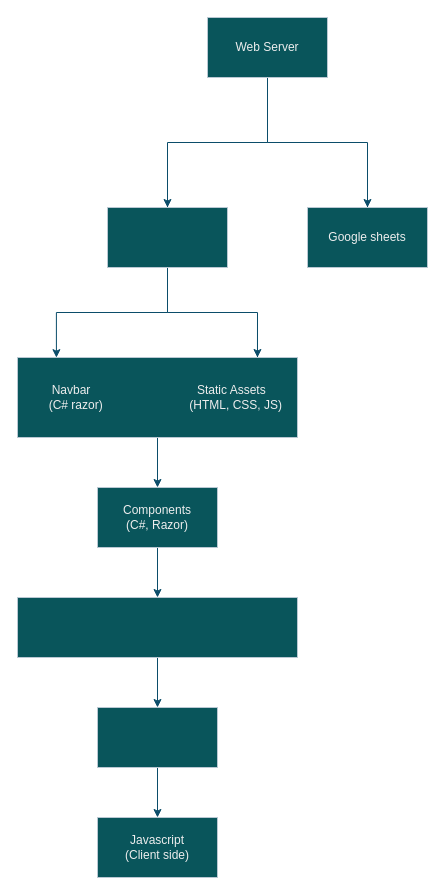
This 445x895 diagram has some shape labels left out. The box of each missing label's shape, as (x1, y1, x2, y2) in pixels:
Blazor client: (106, 206, 228, 268)
CSS (Styling Rules): (96, 706, 218, 768)
Pages Models & Resources (C#, Razor) (C#, Resx): (16, 596, 298, 658)
